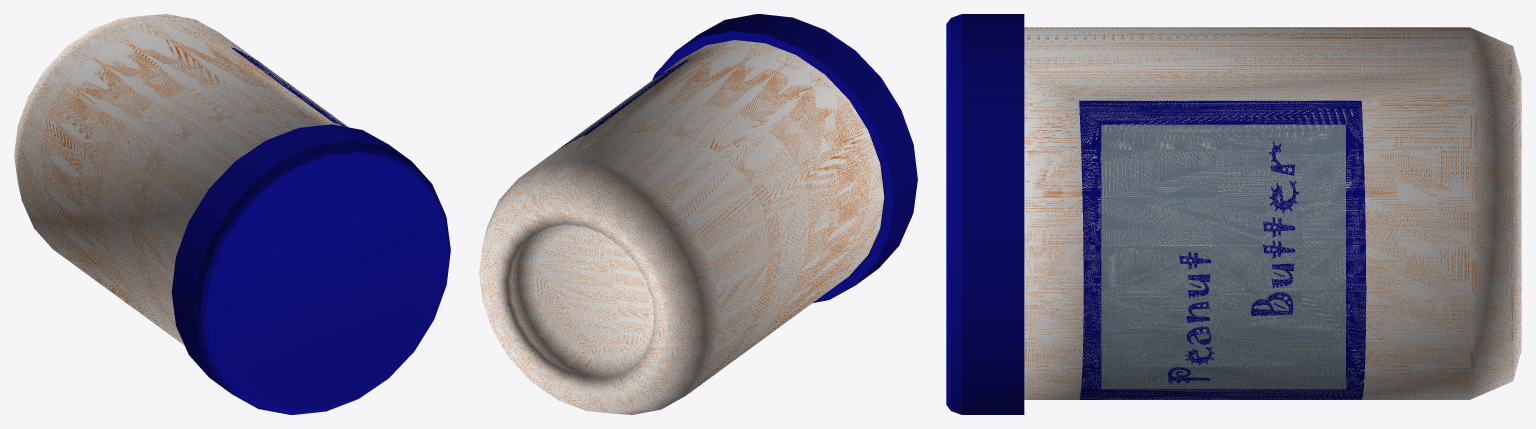
Rendered from model_align.obj.
3 renders of one model, left to right at view 1: azimuth 30°, elevation 25°; view 2: azimuth 150°, elevation 25°; view 3: azimuth 270°, elevation 25°, orthographic. The views are drawn at different scales.
Visible parts, largest first — view 1: mesh1_mesh1-geometry, mesh2_mesh2-geometry; view 2: mesh2_mesh2-geometry, mesh1_mesh1-geometry; view 3: mesh2_mesh2-geometry, mesh1_mesh1-geometry.
Boxes of the visible parts, x1,y1,x2,y2 form: mesh1_mesh1-geometry: (171,124,450,414); mesh2_mesh2-geometry: (14,14,348,345); mesh2_mesh2-geometry: (479,40,884,414); mesh1_mesh1-geometry: (652,14,917,302); mesh2_mesh2-geometry: (1024,27,1521,399); mesh1_mesh1-geometry: (946,14,1024,414).
Bounding box in the file's own units: 0.1043 × 0.1043 × 0.149.
